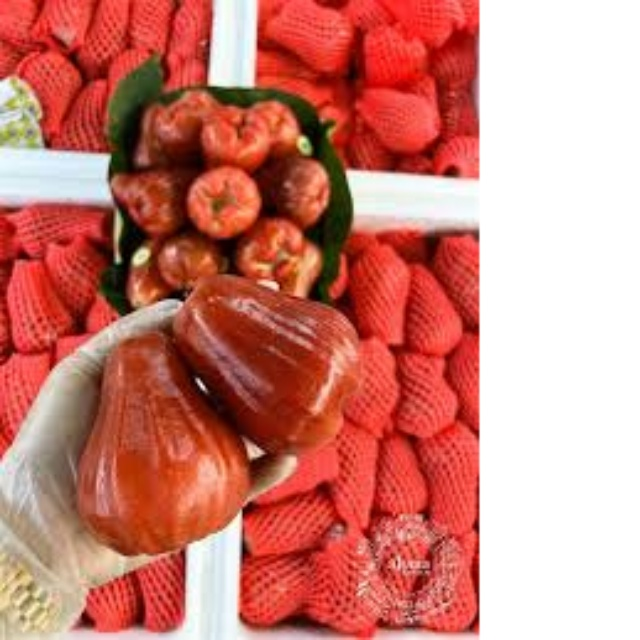xoai: (82, 328, 257, 559), (175, 268, 363, 455)
